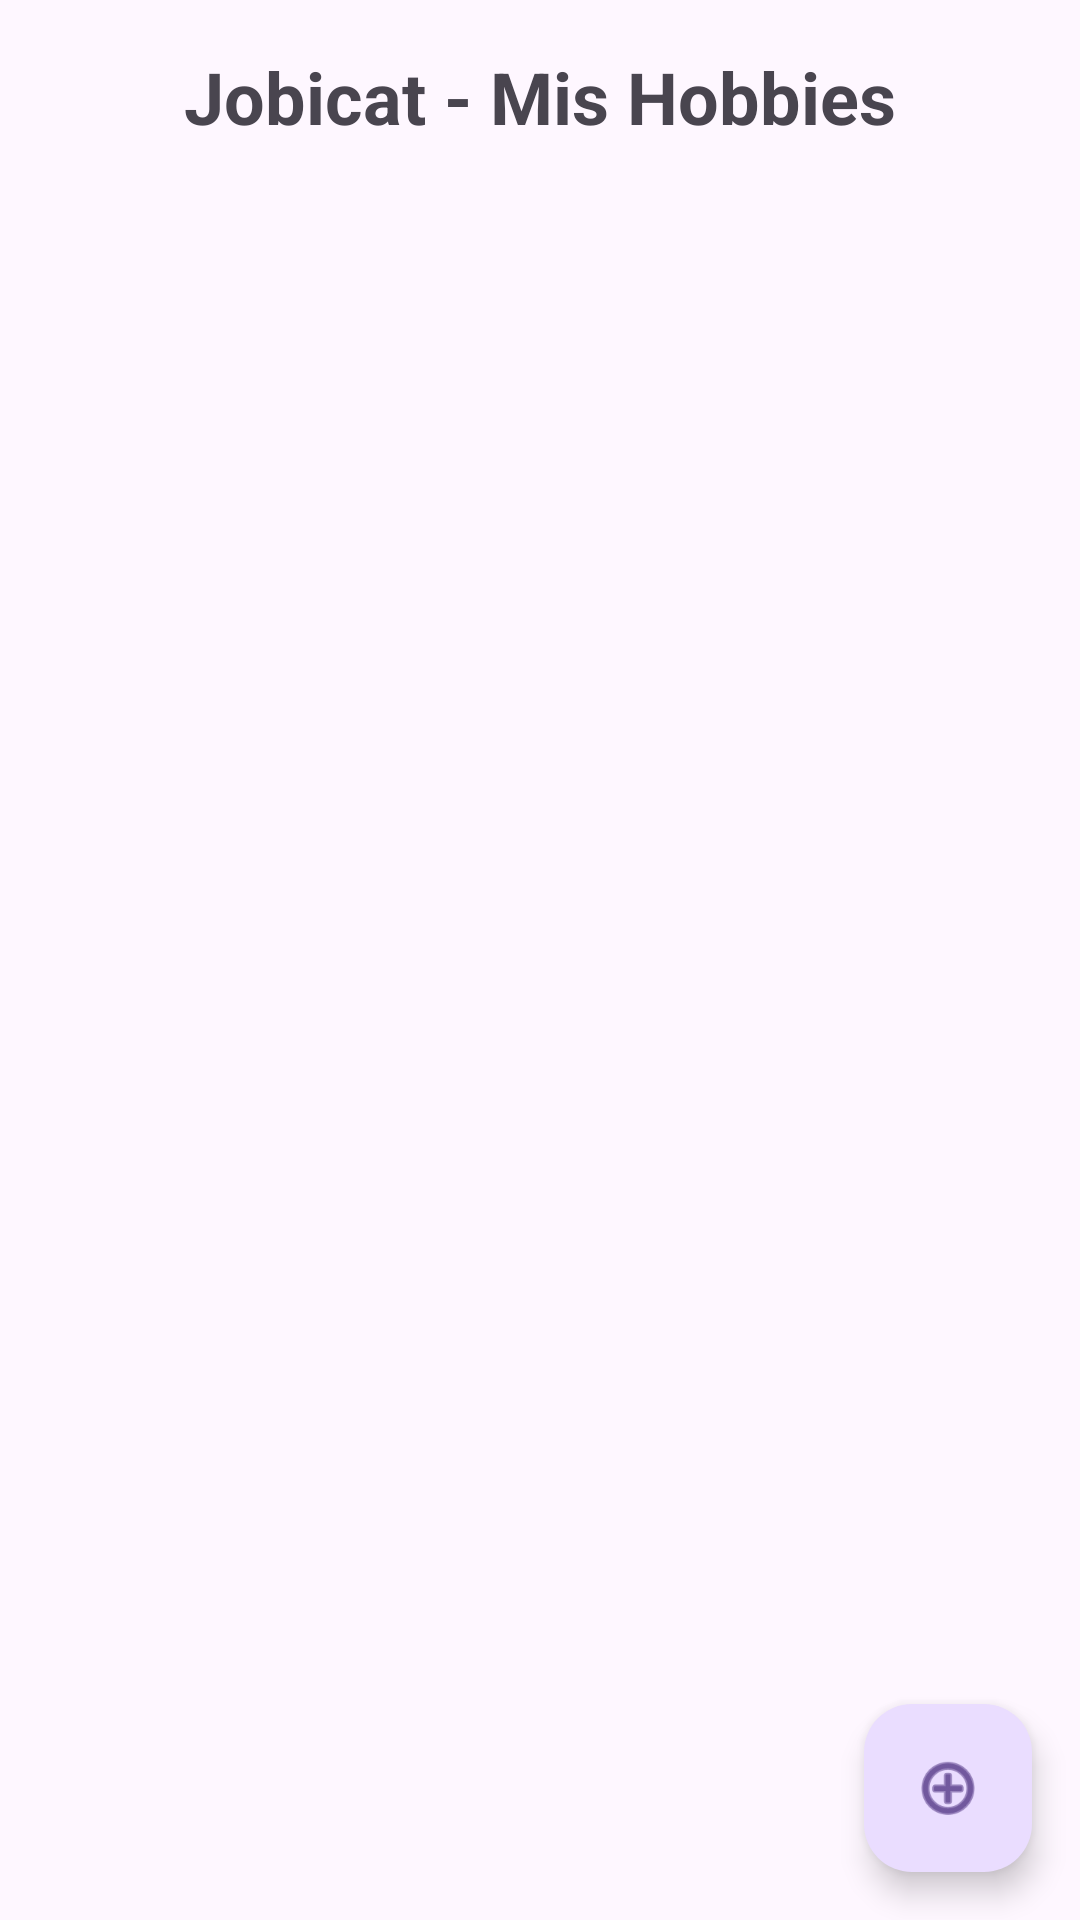

Where icons sit on this 1080w x 1920h app screen, as detection(x1, y1, x2, y2):
Agregar hobby: detection(864, 1704, 1032, 1872)
